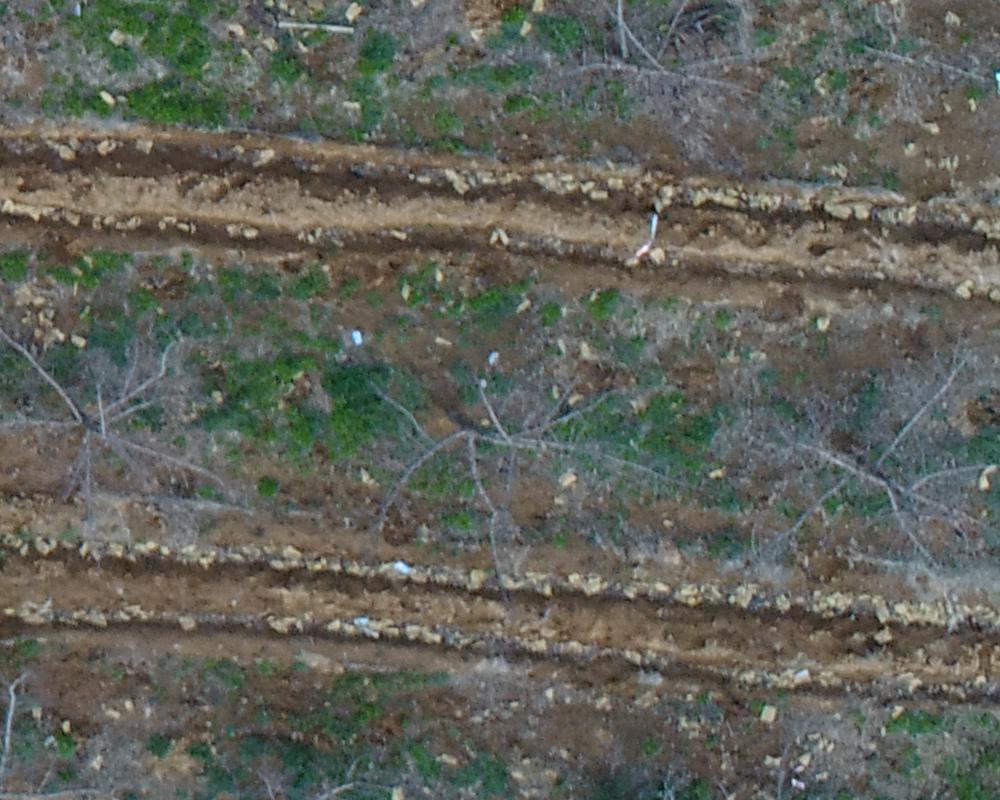apple: (308, 312, 678, 580), (10, 261, 263, 534), (743, 343, 990, 600), (509, 10, 775, 146)
